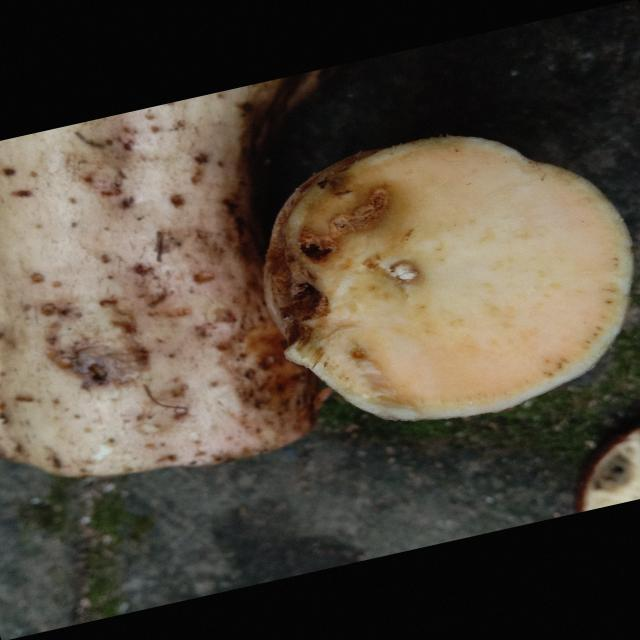Sick Sweet Potato_Tuber Rot: (265, 136, 632, 420)
